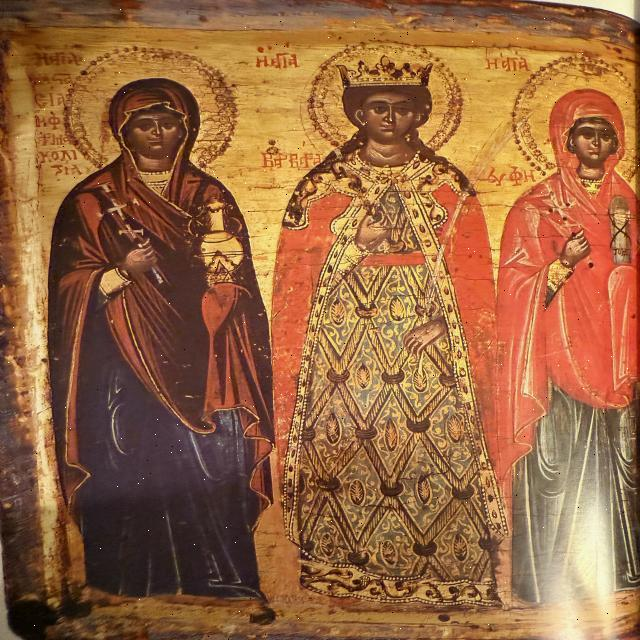aura: (55, 46, 240, 176), (309, 38, 471, 158), (509, 54, 640, 180)
crown: (329, 59, 443, 94)
saint: (19, 36, 291, 577), (282, 34, 500, 600), (478, 52, 638, 596)
vase: (190, 193, 252, 285)
